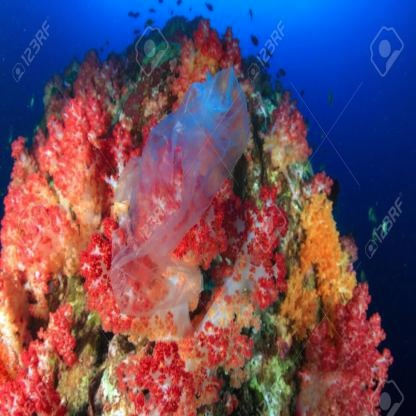pbag: (99, 59, 255, 306)
